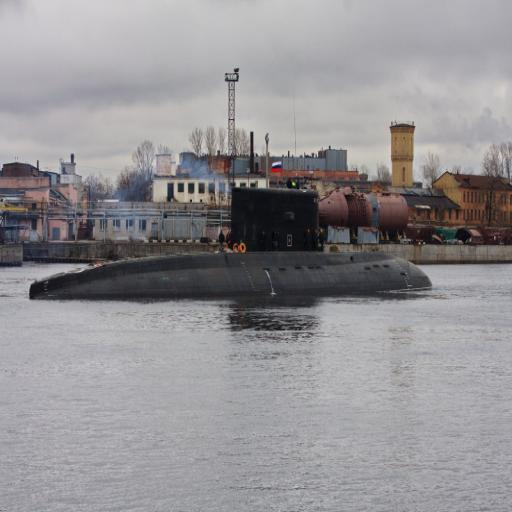submarine: (31, 187, 441, 302)
